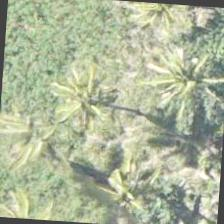Kelapa_Sawit: (34, 41, 130, 137), (134, 25, 223, 122), (0, 81, 78, 177)
